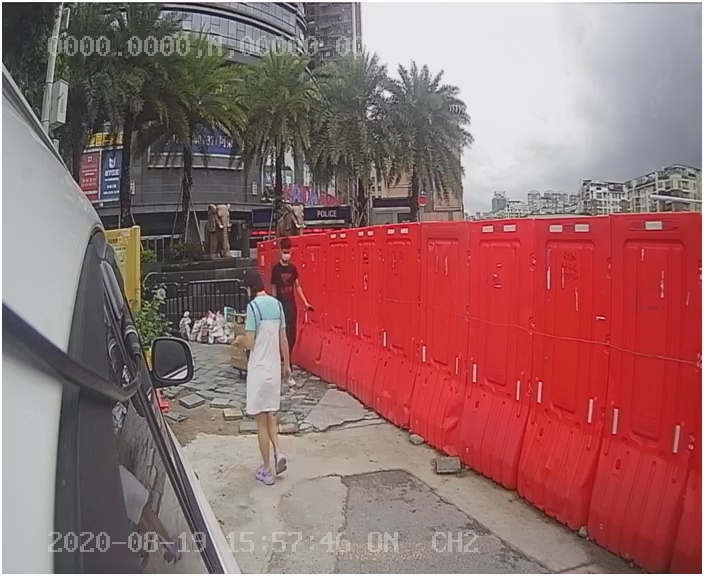person: (228, 266, 304, 491)
